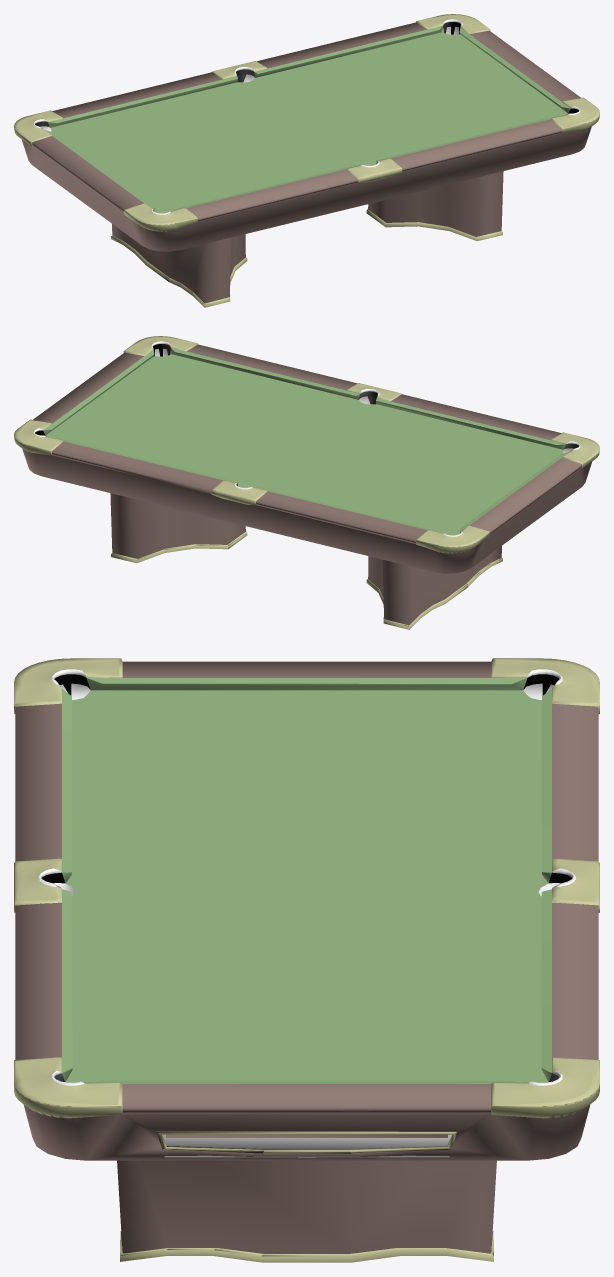
The model's file is billiard.dae.
3 views of the same model, one above another, from view 1: azimuth 30°, elevation 25°; view 2: azimuth 150°, elevation 25°; view 3: azimuth 270°, elevation 25° (orthographic). The views are drawn at different scales.
Visible parts, largest first — view 1: poolcloth, pooltable, panels, pockets; view 2: poolcloth, pooltable, panels, pockets; view 3: poolcloth, pooltable, panels, pockets.
Boxes of the visible parts, x1=… form: poolcloth: x1=45, y1=25, x2=570, y2=213; pooltable: x1=22, y1=22, x2=591, y2=303; panels: x1=14, y1=14, x2=599, y2=307; pockets: x1=33, y1=19, x2=580, y2=214; poolcloth: x1=43, y1=347, x2=568, y2=535; pooltable: x1=22, y1=344, x2=591, y2=625; panels: x1=14, y1=336, x2=599, y2=629; pockets: x1=33, y1=341, x2=580, y2=536; poolcloth: x1=62, y1=678, x2=551, y2=1083; pooltable: x1=15, y1=661, x2=598, y2=1253; panels: x1=14, y1=658, x2=599, y2=1262; pockets: x1=38, y1=669, x2=575, y2=1157.
Bounding box in the file's own units: 3.2 × 1.77 × 0.8045.
